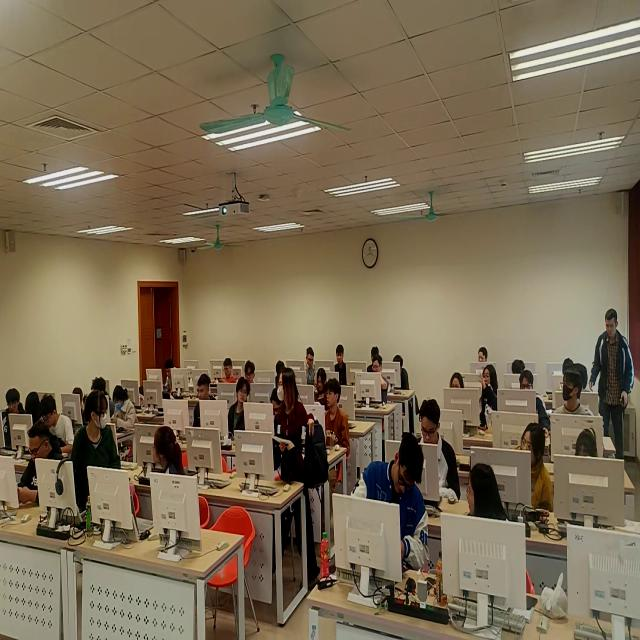raise_head: (554, 369, 595, 417), (325, 379, 351, 453), (228, 377, 253, 438), (480, 364, 499, 435), (245, 360, 256, 385), (451, 372, 466, 389), (478, 347, 489, 363)
stand: (275, 368, 322, 582), (589, 307, 636, 466)
using_computer: (420, 398, 462, 502), (17, 421, 63, 511), (40, 394, 75, 455), (520, 371, 551, 437), (193, 375, 217, 428), (113, 387, 139, 433), (92, 377, 115, 418), (373, 356, 389, 407), (576, 429, 599, 459), (315, 368, 329, 406), (336, 345, 348, 387), (305, 348, 316, 386), (574, 365, 589, 391), (367, 347, 380, 373), (74, 386, 87, 412), (276, 359, 286, 388), (512, 359, 526, 374), (563, 358, 574, 374)
using_phone: (164, 359, 179, 396), (220, 358, 237, 384)
